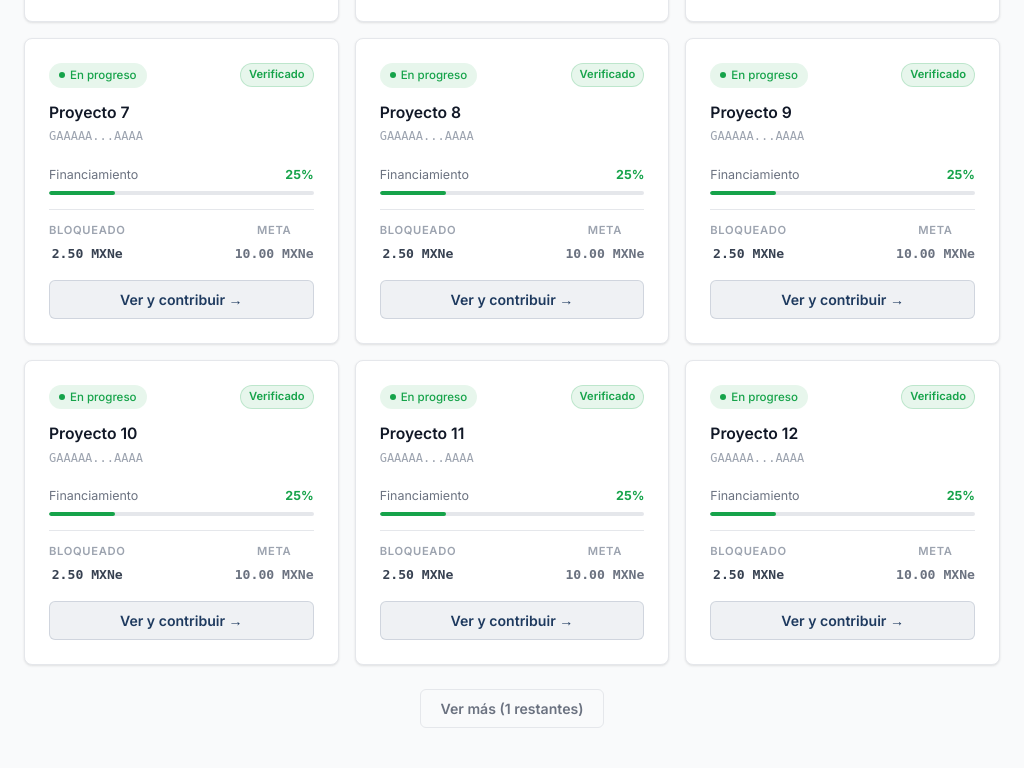
ListaProyectos › aumenta la cantidad visible al usar cargar más
(page scrolled)
Expected: the heading "Proyecto 12" is shown, x1=710 y1=424 x2=798 y2=443
Expected: the text "Proyecto 13" is not shown
Click the button "Ver más (1 restantes)" at (512, 708), box x1=420 y1=689 x2=604 y2=728
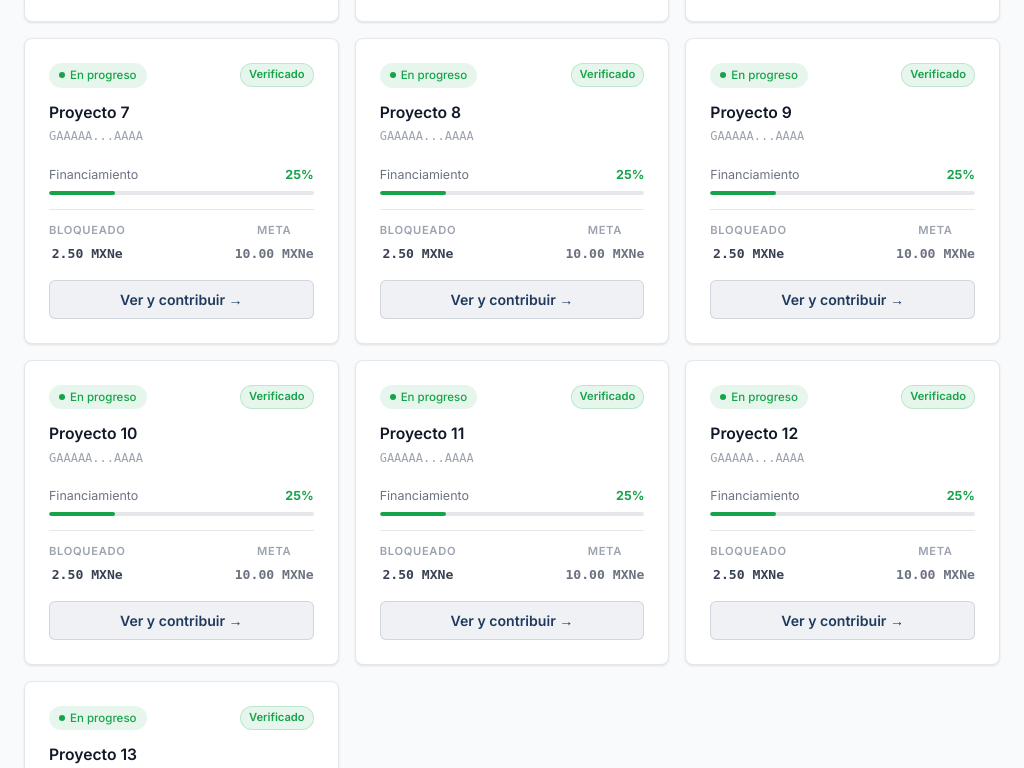
Expected: the heading "Proyecto 13" is shown, x1=49 y1=745 x2=137 y2=764
